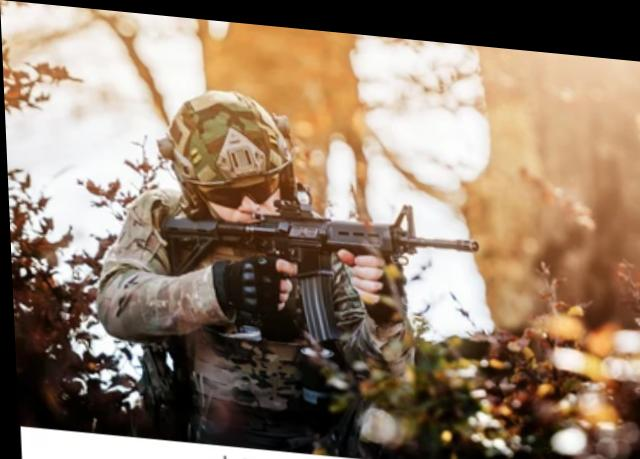other: (91, 73, 408, 448)
